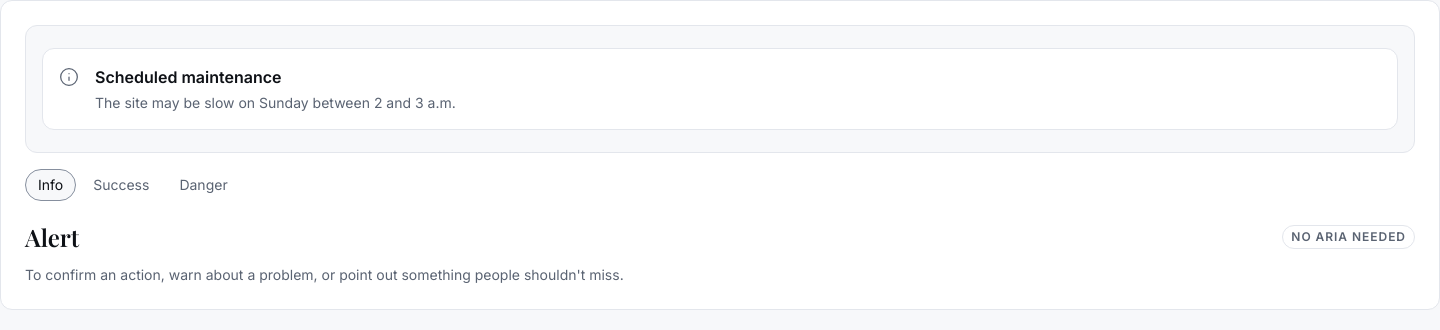
it: CatalogCard › switches the preview between presets from the chips
Click the button "Danger".
click(204, 185)  # box left=166, top=169, right=241, bottom=201
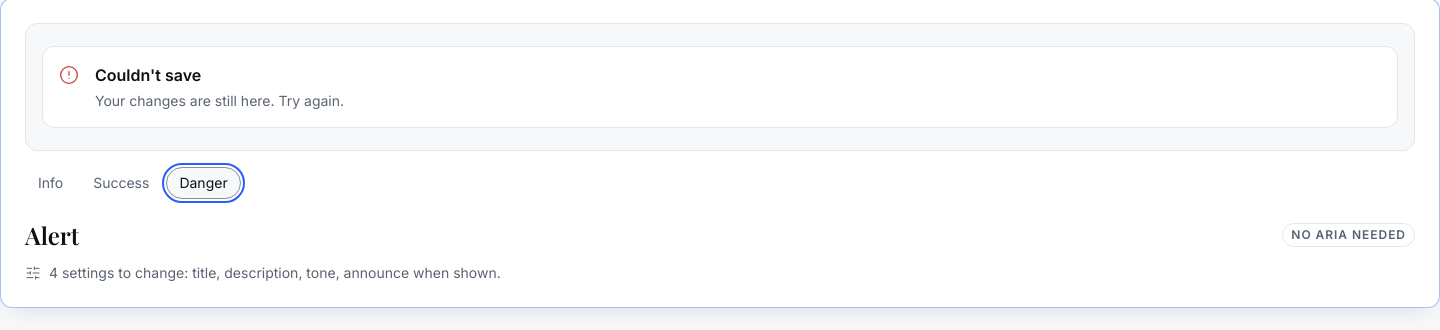
Now the text "Couldn't save" is shown, box left=95, top=65, right=201, bottom=85
